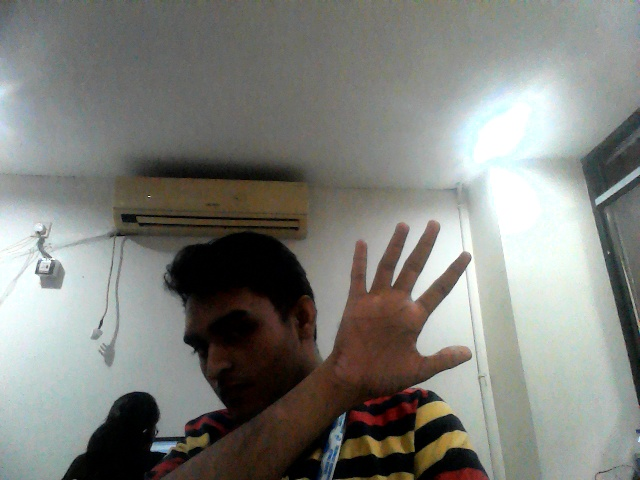palm: (334, 213, 477, 397)
